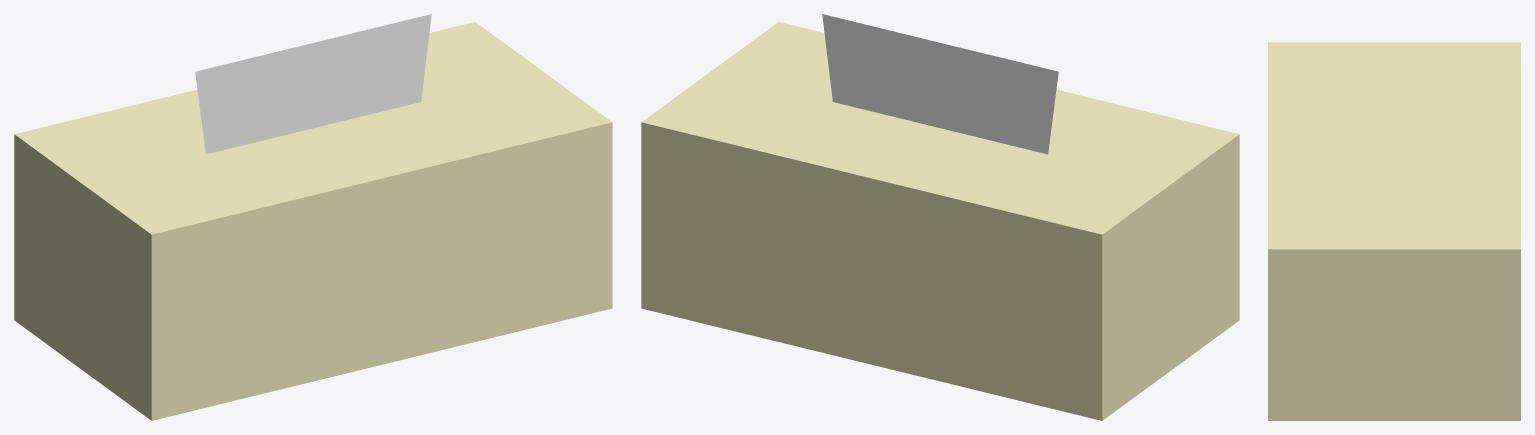
File: Itr_Obj_Tissue_02.FBX
The picture shows the model from 3 angles, left to right: view 1: azimuth 30°, elevation 25°; view 2: azimuth 150°, elevation 25°; view 3: azimuth 270°, elevation 25°; orthographic projection. The views are drawn at different scales.
Visible parts, largest first — view 1: Itr_Obj_Tissue_02; view 2: Itr_Obj_Tissue_02; view 3: Itr_Obj_Tissue_02.
Boxes of the visible parts, x1,y1,x2,y2 form: Itr_Obj_Tissue_02: (14, 14, 612, 420); Itr_Obj_Tissue_02: (641, 14, 1239, 420); Itr_Obj_Tissue_02: (1268, 42, 1520, 420).
Size of the model in its own units: 16.29 by 9.18 by 8.4.
